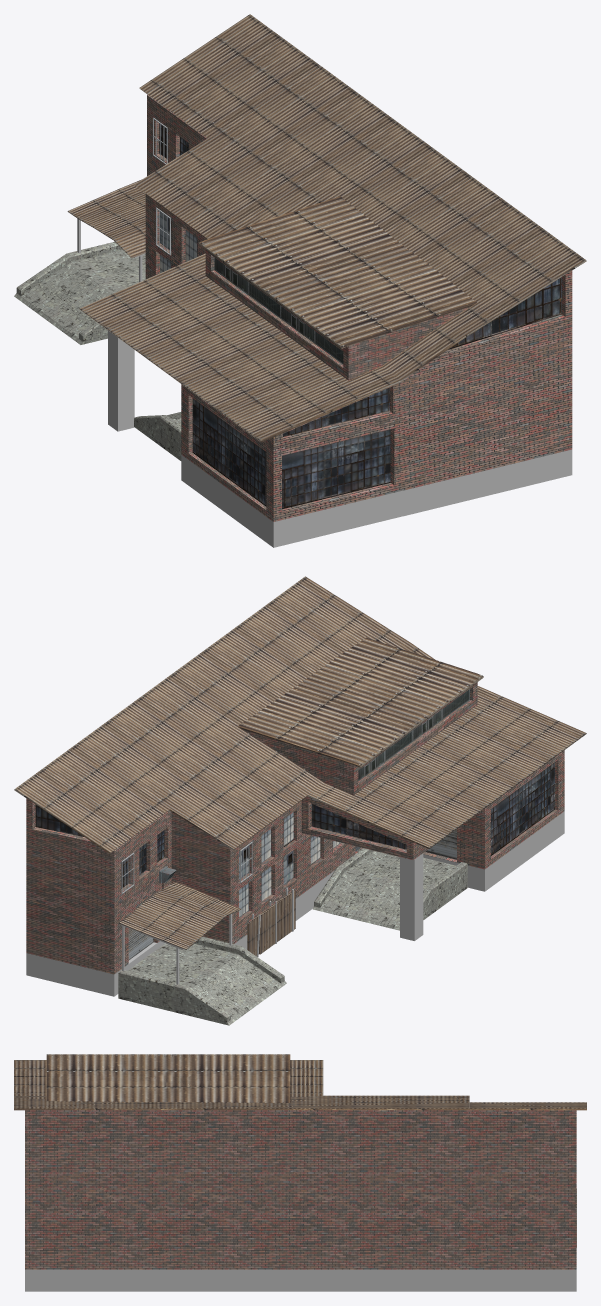
Rendered from house3_lod0.fbx.
The picture shows the model from 3 angles, top to bottom: view 1: azimuth 30°, elevation 25°; view 2: azimuth 150°, elevation 25°; view 3: azimuth 270°, elevation 25°; orthographic projection. The views are drawn at different scales.
Parts seen in each view (by area): view 1: Mesh Object, Mesh Object_ncl1_3, Mesh Object_ncl1_1, Mesh Object_ncl1_2; view 2: Mesh Object, Mesh Object_ncl1_3, Mesh Object_ncl1_1, Mesh Object_ncl1_2; view 3: Mesh Object, Mesh Object_ncl1_3.
Part boxes in pixels (x1=…): Mesh Object: x1=79, y1=14, x2=586, y2=547; Mesh Object_ncl1_3: x1=198, y1=196, x2=476, y2=380; Mesh Object_ncl1_1: x1=14, y1=241, x2=181, y2=460; Mesh Object_ncl1_2: x1=67, y1=179, x2=145, y2=282; Mesh Object: x1=14, y1=576, x2=586, y2=996; Mesh Object_ncl1_3: x1=238, y1=637, x2=483, y2=794; Mesh Object_ncl1_1: x1=118, y1=848, x2=467, y2=1025; Mesh Object_ncl1_2: x1=119, y1=866, x2=295, y2=984; Mesh Object: x1=14, y1=1060, x2=586, y2=1291; Mesh Object_ncl1_3: x1=46, y1=1054, x2=290, y2=1102.
Size of the model in its own units: 12.02 by 7.72 by 21.41.
